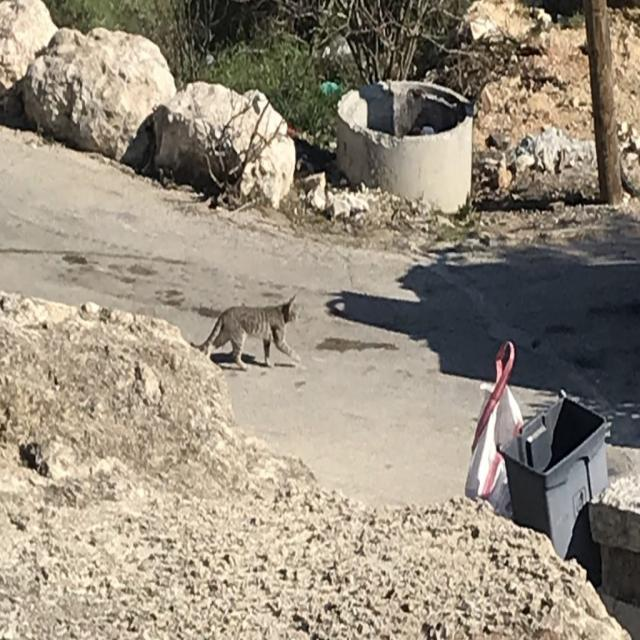cat: (199, 296, 301, 369)
